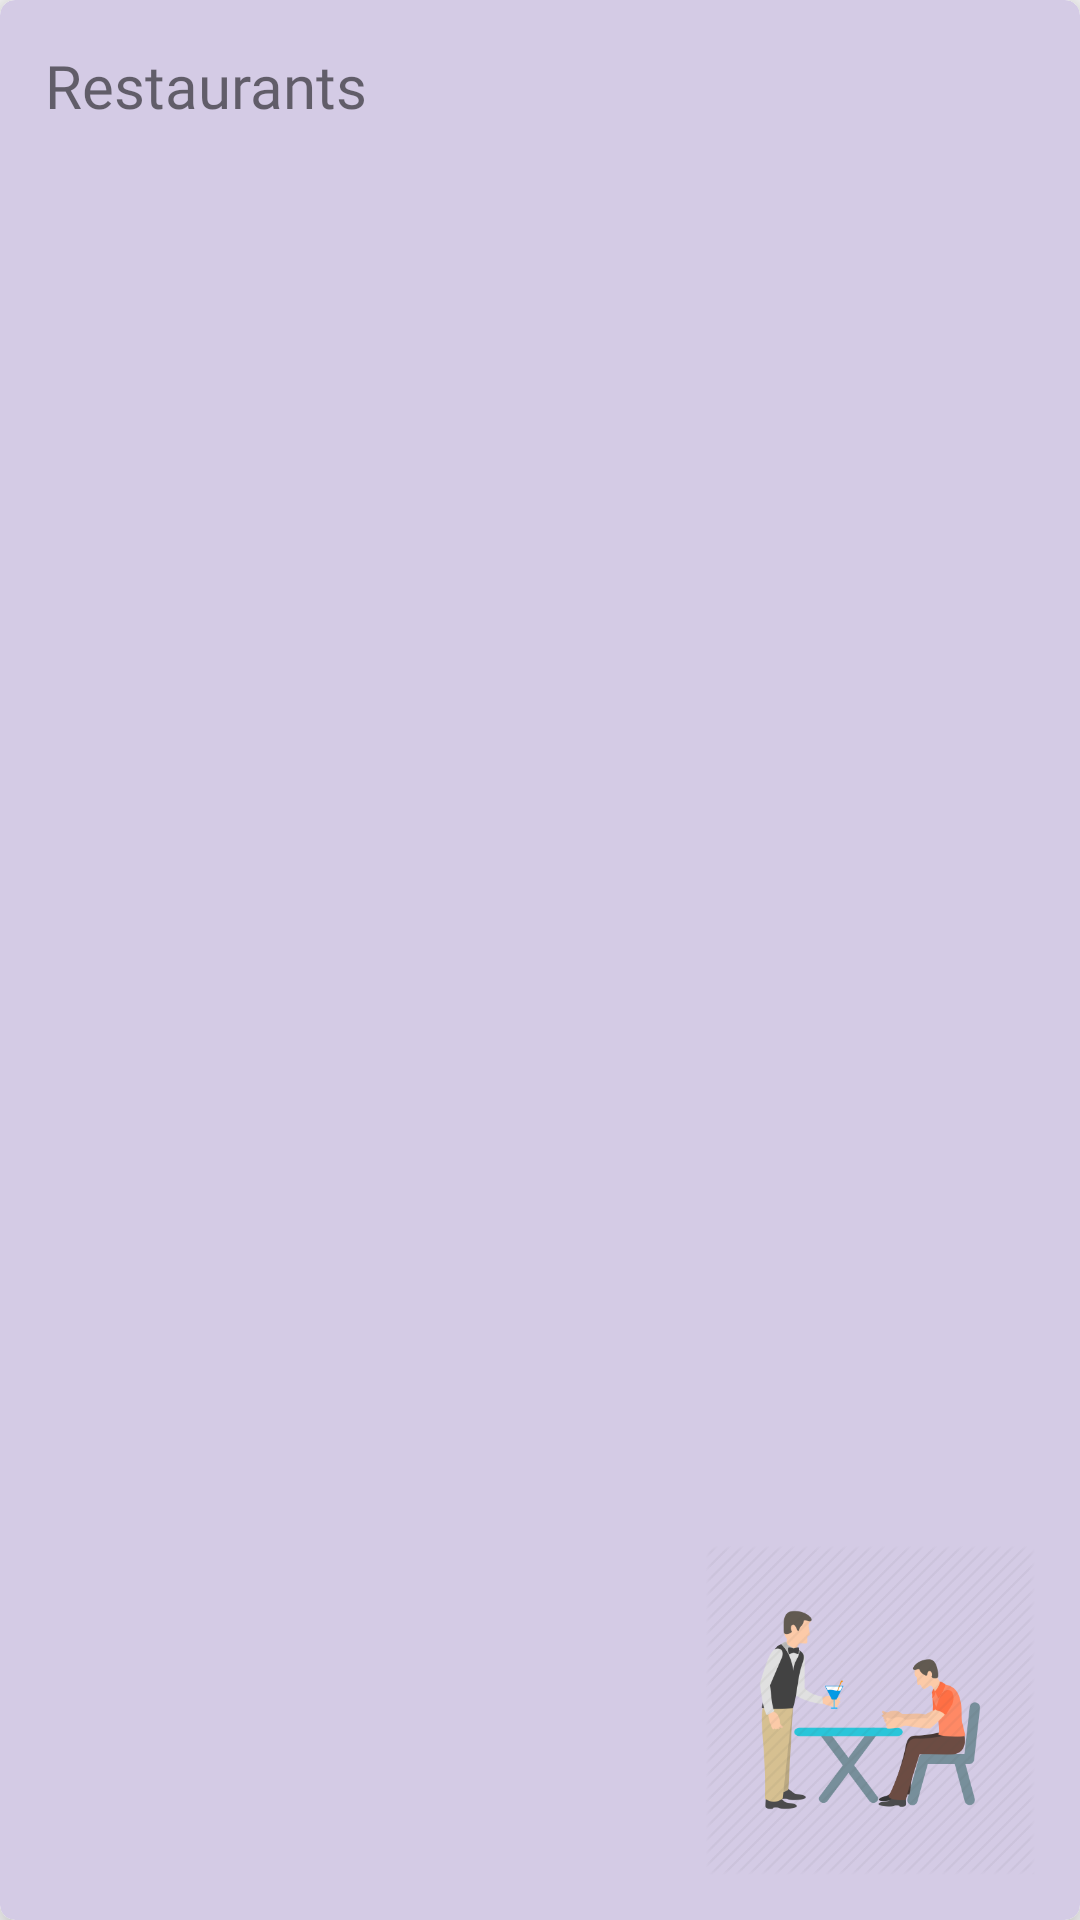

Icon bounding boxes for this 1080 × 1920 phone screenshot, format (x1, y1, x2, y2):
restaurant: (761, 1611, 980, 1809)
